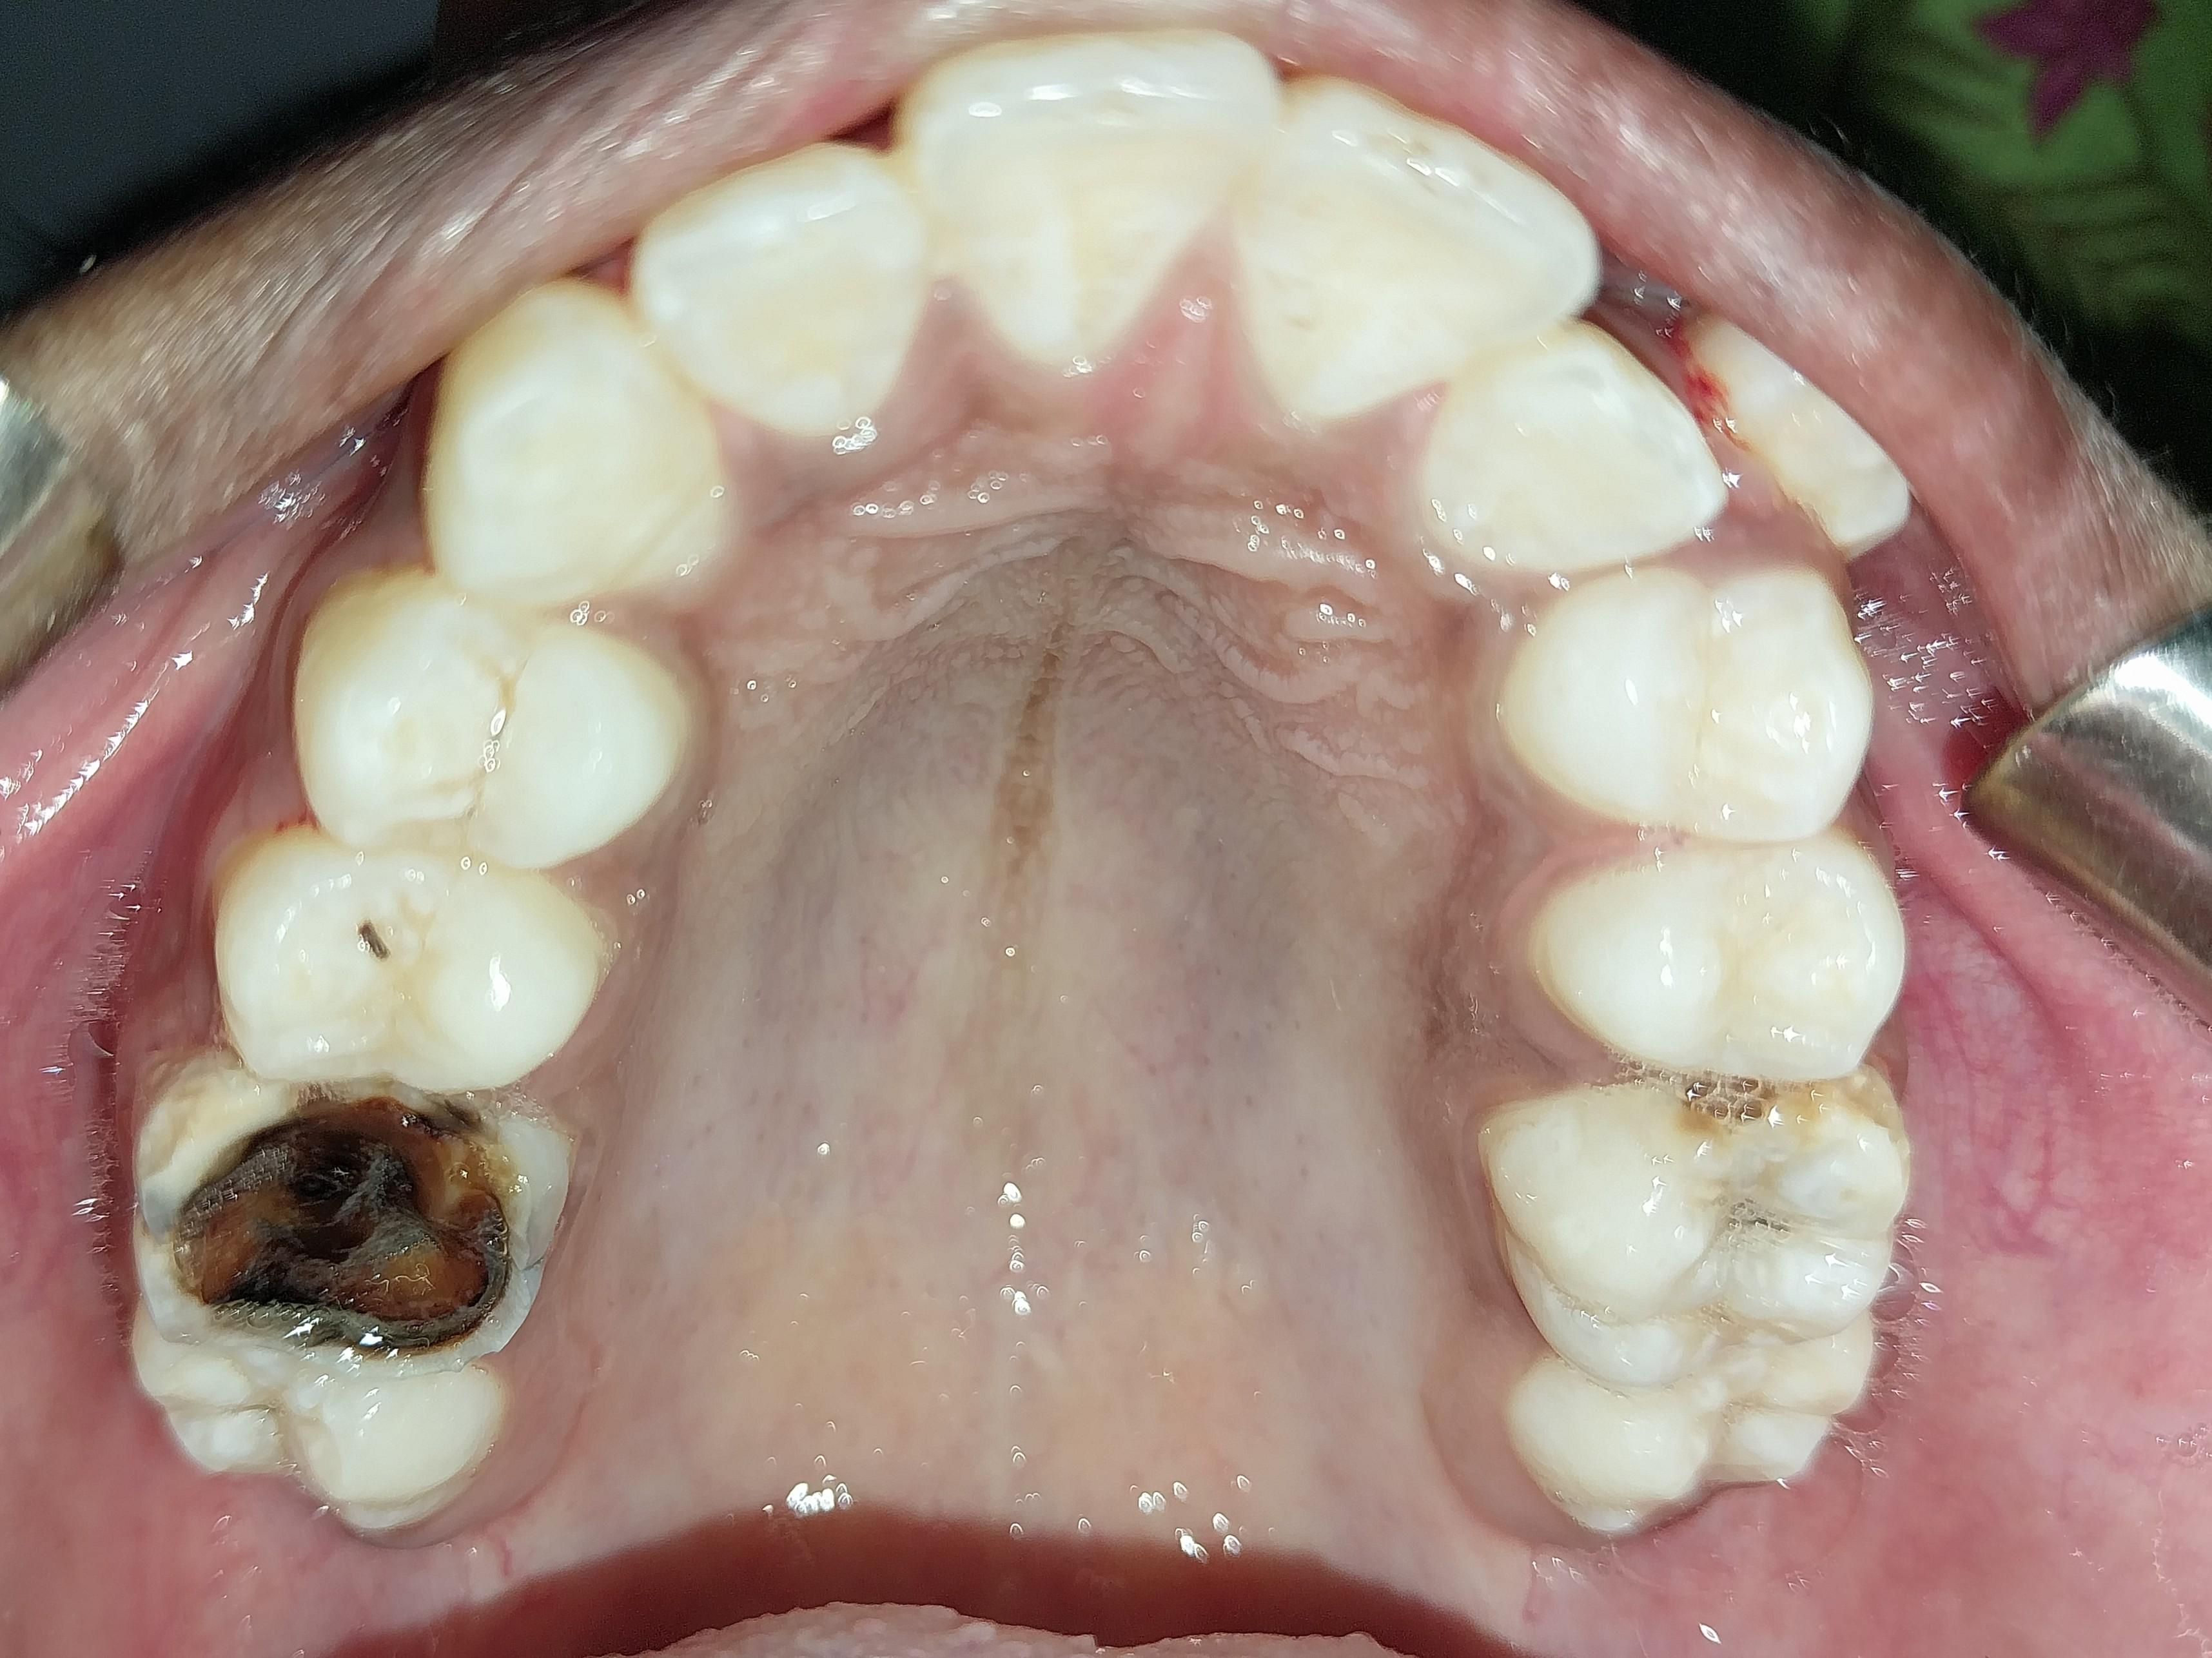D: (144, 1058, 573, 1389), (1484, 1067, 1913, 1381), (203, 848, 587, 1089)
